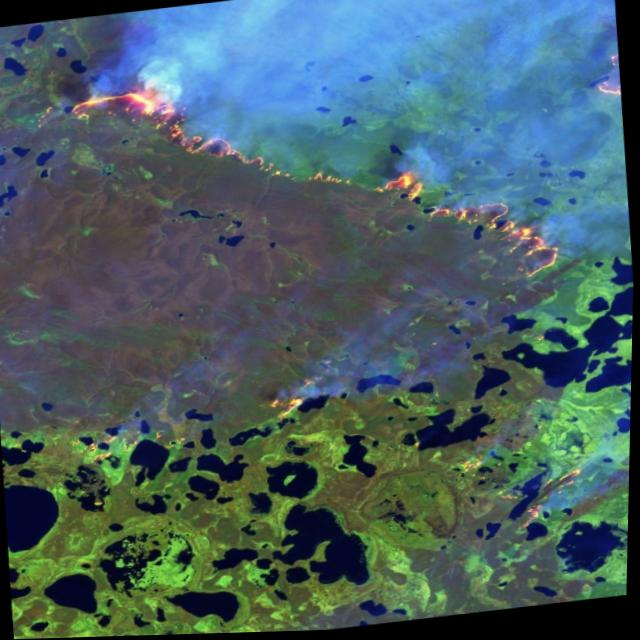fire: (5, 20, 639, 589)
